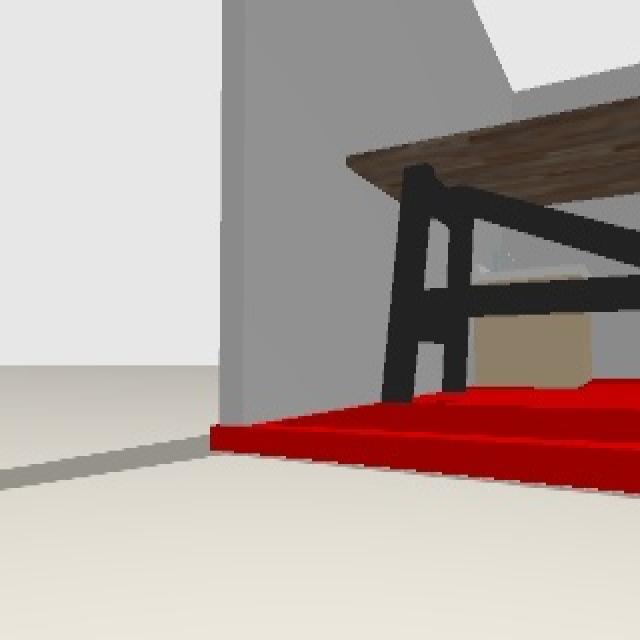dining: (343, 96, 640, 402)
